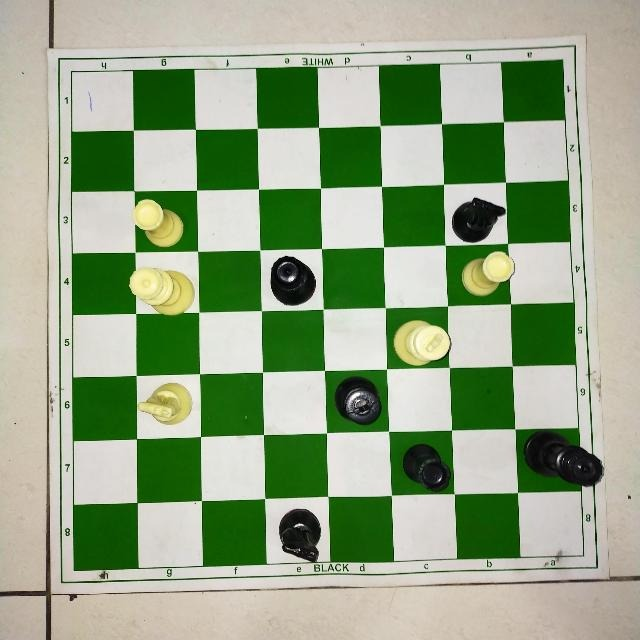black-king: (331, 373, 382, 428)
black-knight: (448, 195, 507, 243), (276, 507, 326, 563)
black-queen: (520, 430, 606, 488), (269, 255, 319, 307)
black-rook: (398, 442, 453, 494)
white-king: (390, 319, 452, 365)
white-knight: (136, 378, 194, 428)
white-queen: (127, 265, 196, 317)
white-rook: (458, 247, 516, 299), (131, 198, 187, 250)
